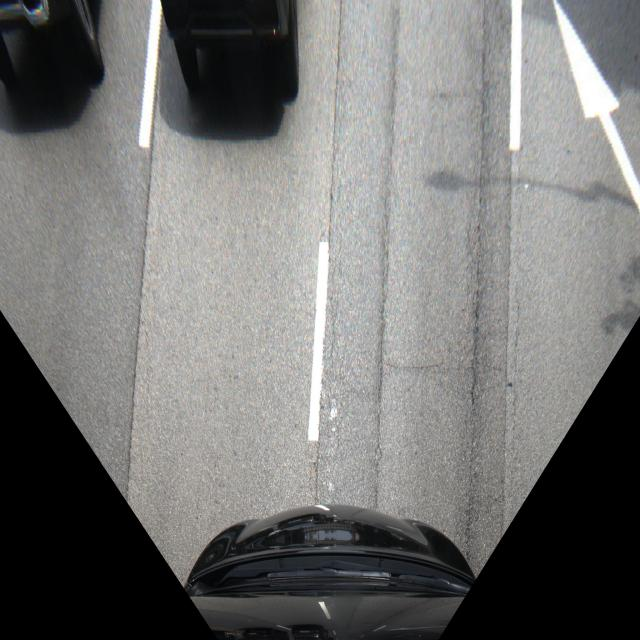chang_lane_left: (513, 0, 640, 224)
